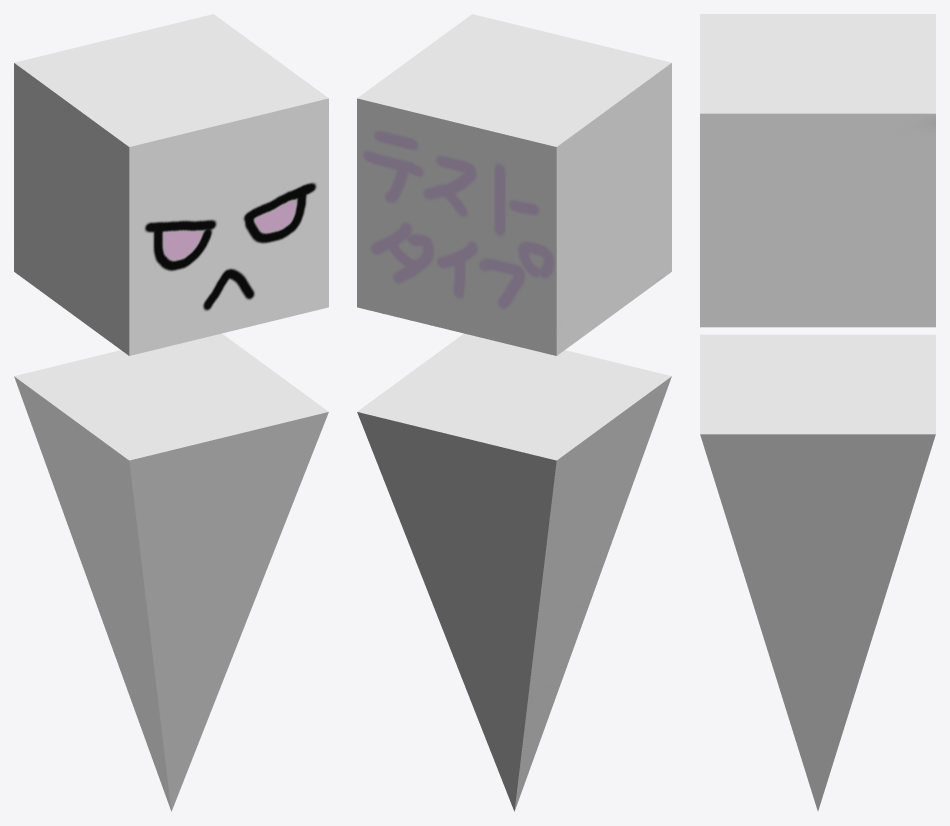
Rendered from testPlayer.obj.
3 renders of one model, left to right at view 1: azimuth 30°, elevation 25°; view 2: azimuth 150°, elevation 25°; view 3: azimuth 270°, elevation 25°, orthographic. The views are drawn at different scales.
Parts seen in each view (by area): view 1: 立方体; view 2: 立方体; view 3: 立方体.
Part boxes in pixels (<box>): 立方体: <box>14,14,328,811</box>; 立方体: <box>357,14,671,811</box>; 立方体: <box>700,14,935,810</box>.
Size of the model in its own units: 2 by 7 by 2.
1 material, 1 textured.
